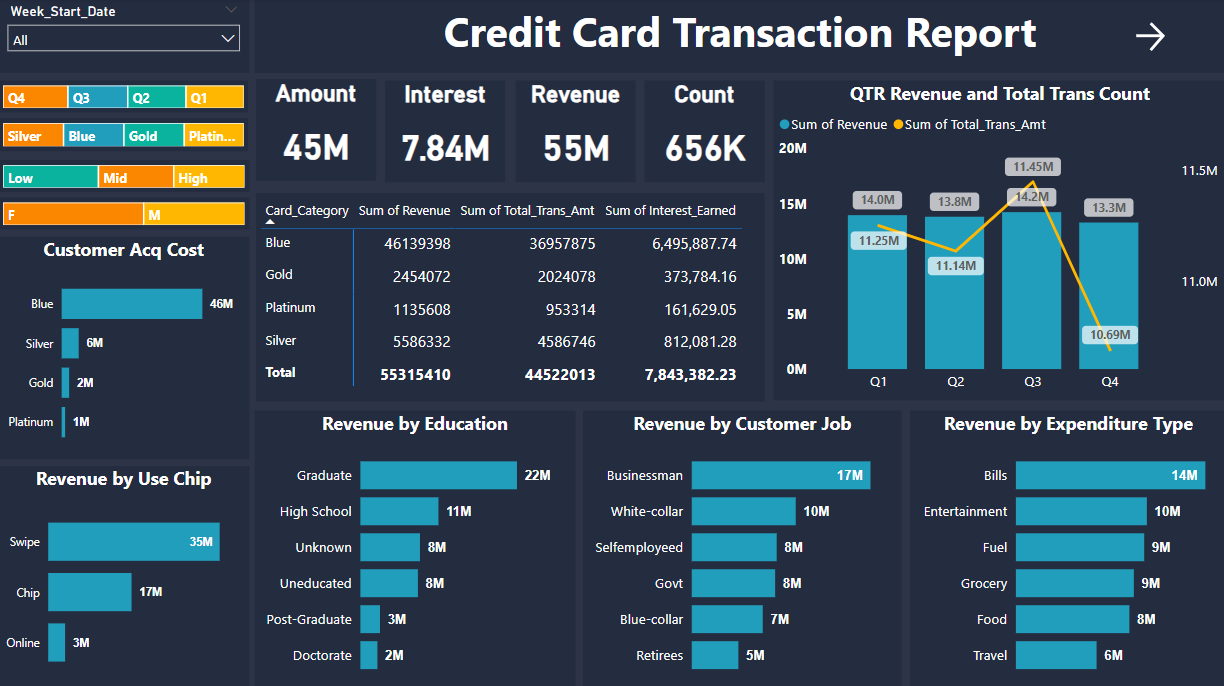

What the dashboard file says about the page in this screenshot:
{"tool":"powerbi","page":{"name":"Page 2","canvas":[1280,720],"ordinal":0},"visuals":[{"type":"textbox","box":[268,0,1012,78],"z":0},{"type":"lineStackedColumnComboChart","title":"QTR Revenue and Total Trans Count","fields":{"Y2":["Sum(Detail.Total_Trans_Amt)"],"Y":["Sum(Detail.Revenue)"],"Category":["Detail.Qtr"]},"box":[808.3,86.7,471.7,333.3],"z":1000},{"type":"barChart","title":"Revenue by Expenditure Type","fields":{"Category":["Detail.Exp_Type"],"Y":["Sum(Detail.Revenue)"]},"box":[950,430,330,290],"z":2000},{"type":"barChart","title":"Revenue by Education","fields":{"Category":["customer_detail.Education_Level"],"Y":["Sum(Detail.Revenue)"]},"box":[267.8,430,334.4,290],"z":3000},{"type":"barChart","title":"Revenue by Customer Job","fields":{"Category":["customer_detail.Customer_Job"],"Y":["Sum(Detail.Revenue)"]},"box":[610,430,332.2,290],"z":4000},{"type":"barChart","title":"Customer Acq Cost","fields":{"Category":["Detail.Card_Category"],"Y":["Sum(Detail.Revenue)"]},"box":[0,248.3,261.7,231.7],"z":5000},{"type":"barChart","title":"Revenue by Use Chip","fields":{"Category":["Detail.Use_Chip"],"Y":["Sum(Detail.Revenue)"]},"box":[0,488.3,261.7,231.7],"z":6000},{"type":"pivotTable","fields":{"Values":["Sum(Detail.Revenue)","Sum(Detail.Total_Trans_Amt)","Sum(Detail.Interest_Earned)"],"Rows":["Detail.Card_Category"]},"box":[268.8,202.5,530,217.5],"z":7000},{"type":"card","title":"Revenue","fields":{"Values":["Sum(Detail.Revenue)"]},"box":[540,86,125,106],"z":8000},{"type":"card","title":"Interest","fields":{"Values":["Sum(Detail.Interest_Earned)"]},"box":[404,86,125,106],"z":9000},{"type":"card","title":"Amount","fields":{"Values":["Sum(Detail.Total_Trans_Amt)"]},"box":[268.8,85,125,106.2],"z":10000},{"type":"card","title":"Amount","fields":{"Values":["Detail.Total_trans_Ct"]},"box":[674,86,125,106],"z":11000},{"type":"slicer","fields":{"Values":["Detail.Week_Start_Date"]},"box":[0,0,261.8,78.2],"z":12000},{"type":"treemap","fields":{"Group":["Detail.Qtr"],"Values":["Avg(Detail.Client_Num)"]},"box":[0,85.5,260.9,33.6],"z":13000},{"type":"treemap","fields":{"Group":["customer_detail.Gender"],"Values":["CountNonNull(Detail.Client_Num)"]},"box":[0,208.2,261.8,33.6],"z":14000},{"type":"treemap","fields":{"Values":["CountNonNull(Detail.Client_Num)"],"Group":["customer_detail.IncomeGroup"]},"box":[0,168.2,261.8,33.6],"z":15000},{"type":"treemap","fields":{"Group":["Detail.Card_Category"],"Values":["Avg(Detail.Client_Num)"]},"box":[0,125.5,260.9,34.5],"z":16000}]}

Visuals, with their boxes in screenshot pixels (x1, y1, x2, y2), scaled from the page's 1280x720 canvas onto the 1224x686 screenshot:
textbox: rect(256, 0, 1223, 74)
"QTR Revenue and Total Trans Count" lineStackedColumnComboChart: rect(773, 83, 1223, 400)
"Revenue by Expenditure Type" barChart: rect(908, 410, 1223, 685)
"Revenue by Education" barChart: rect(256, 410, 576, 685)
"Revenue by Customer Job" barChart: rect(583, 410, 901, 685)
"Customer Acq Cost" barChart: rect(0, 237, 250, 457)
"Revenue by Use Chip" barChart: rect(0, 465, 250, 685)
pivotTable - Sum(Detail.Revenue) x Sum(Detail.Total_Trans_Amt): rect(257, 193, 764, 400)
"Revenue" card: rect(516, 82, 636, 183)
"Interest" card: rect(386, 82, 506, 183)
"Amount" card: rect(257, 81, 377, 182)
"Amount" card: rect(645, 82, 764, 183)
slicer - Detail.Week_Start_Date: rect(0, 0, 250, 75)
treemap - Detail.Qtr x Avg(Detail.Client_Num): rect(0, 81, 249, 113)
treemap - customer_detail.Gender x CountNonNull(Detail.Client_Num): rect(0, 198, 250, 230)
treemap - CountNonNull(Detail.Client_Num) x customer_detail.IncomeGroup: rect(0, 160, 250, 192)
treemap - Detail.Card_Category x Avg(Detail.Client_Num): rect(0, 120, 249, 152)
